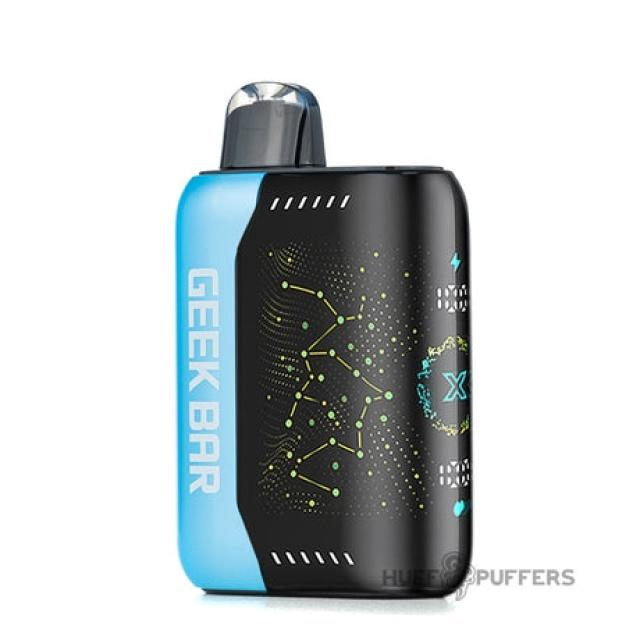Hazard: (174, 79, 473, 600)
